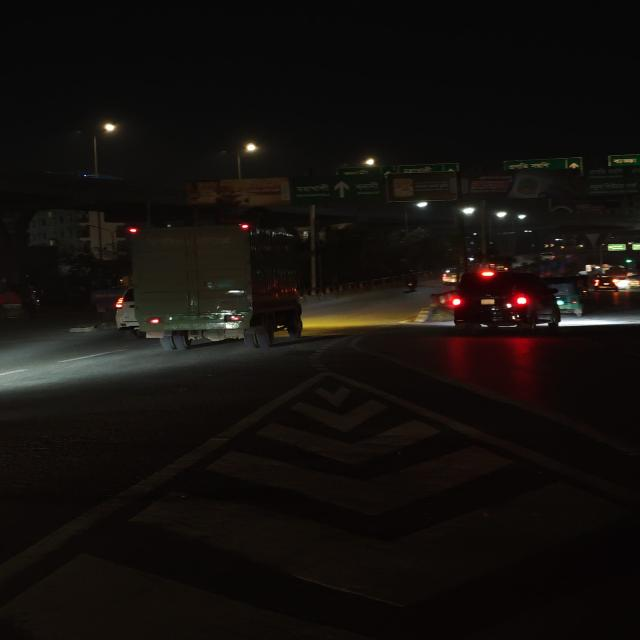car: (446, 270, 564, 333), (592, 274, 622, 293)
cng: (550, 275, 589, 317)
truck: (112, 222, 314, 351)
